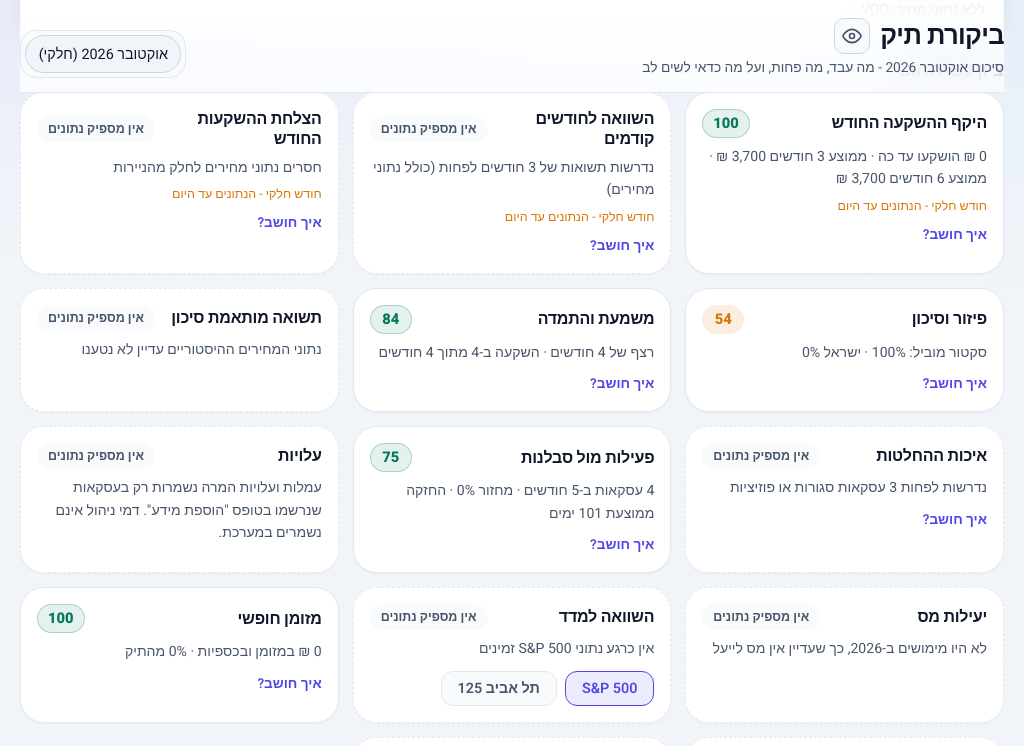
Test: PortfolioReviewView › opens a category to show how it was computed
(page scrolled)
What coordinates should you click on to do the following:
click the button "איך חושב?" below "סקטור מוביל: 100% · ישראל 0%"
I would click on:
 (955, 384)
Its box is top-left (923, 374), bottom-right (987, 394).
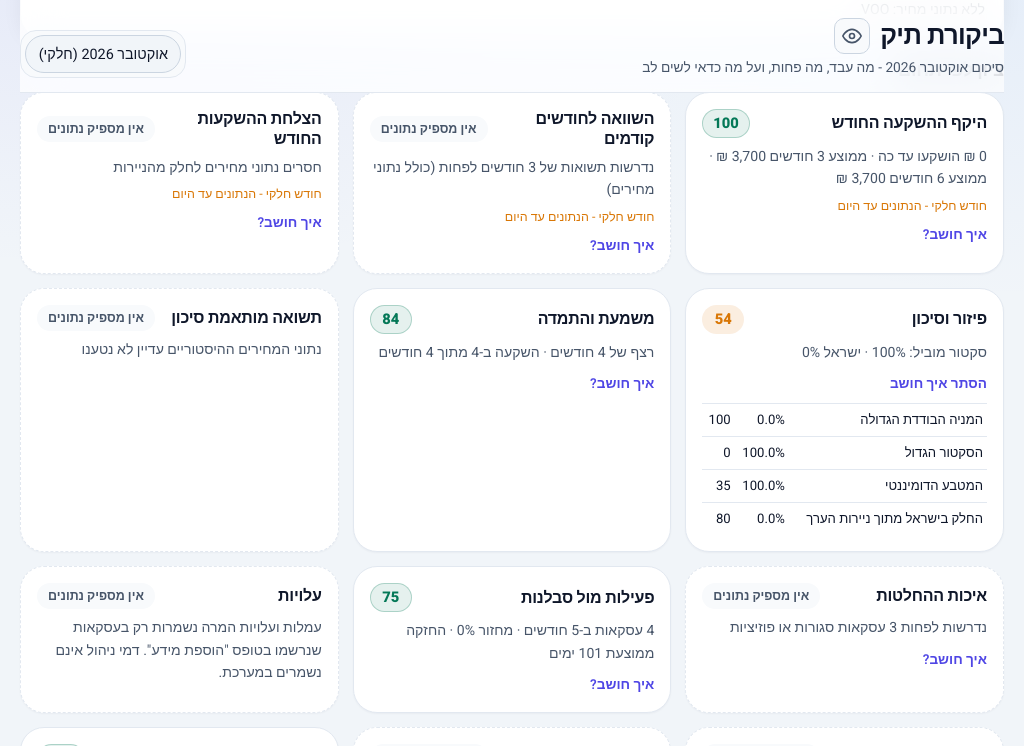
Check: the column heading "המניה הבודדת הגדולה" is shown, box top-left (789, 404), bottom-right (987, 437)
